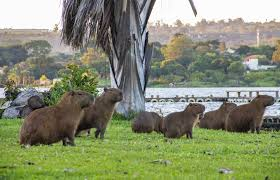capivara: (22, 89, 95, 147), (75, 88, 123, 140), (226, 94, 276, 133), (166, 103, 206, 140), (199, 101, 237, 130), (133, 111, 164, 133)
